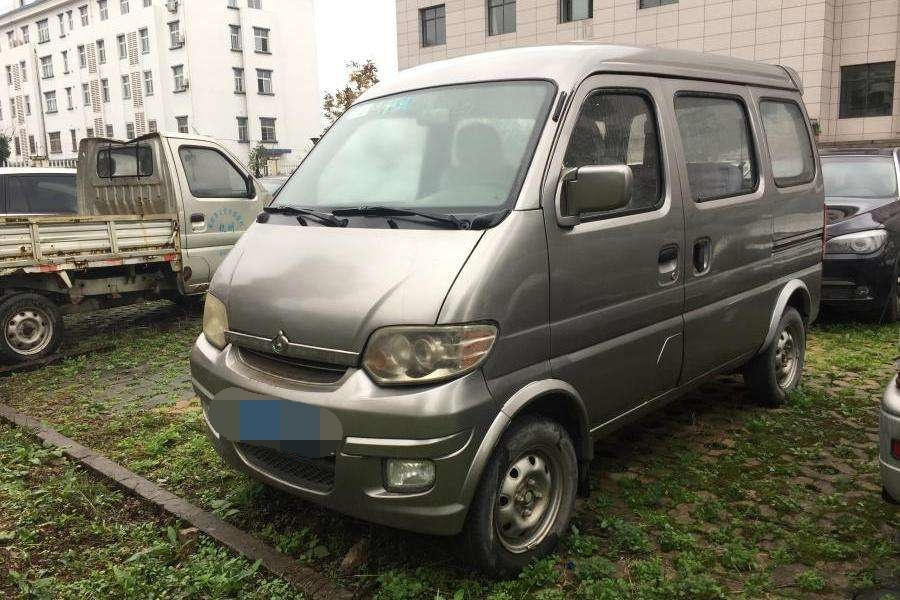minibus: (189, 46, 853, 551)
truck: (5, 121, 274, 367)
